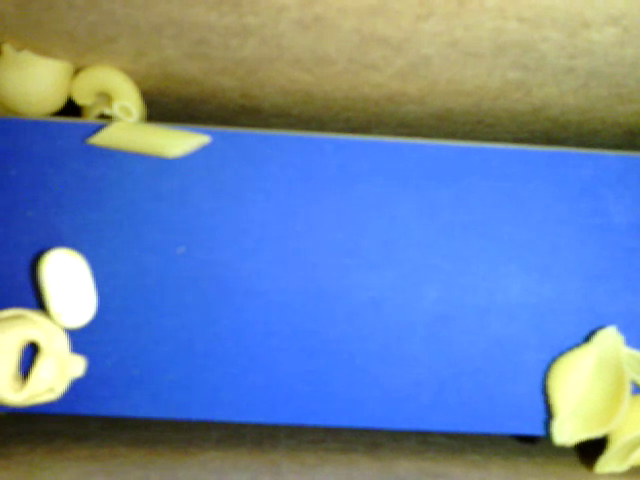elbow: (70, 65, 140, 121)
penne: (86, 120, 212, 157)
shell: (546, 324, 631, 447), (1, 43, 77, 116), (595, 394, 639, 474), (81, 93, 147, 122)
tortellini: (1, 307, 87, 407)
